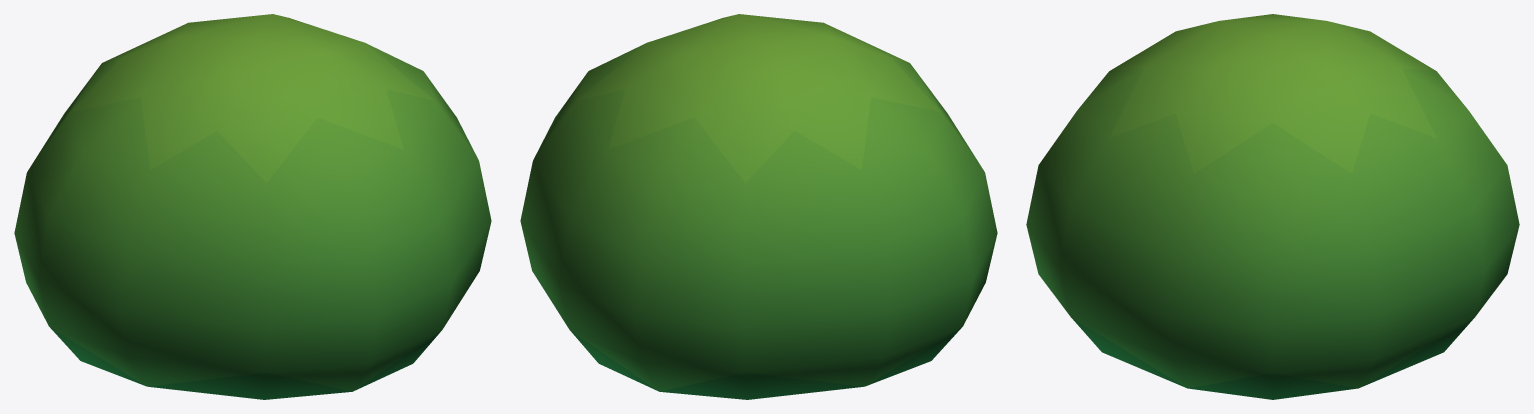
Rendered from Bush_1_C.glb.
The picture shows the model from 3 angles, left to right: view 1: azimuth 30°, elevation 25°; view 2: azimuth 150°, elevation 25°; view 3: azimuth 270°, elevation 25°; orthographic projection.
Bounding box in the file's own units: 1.2 × 0.8074 × 1.2.
